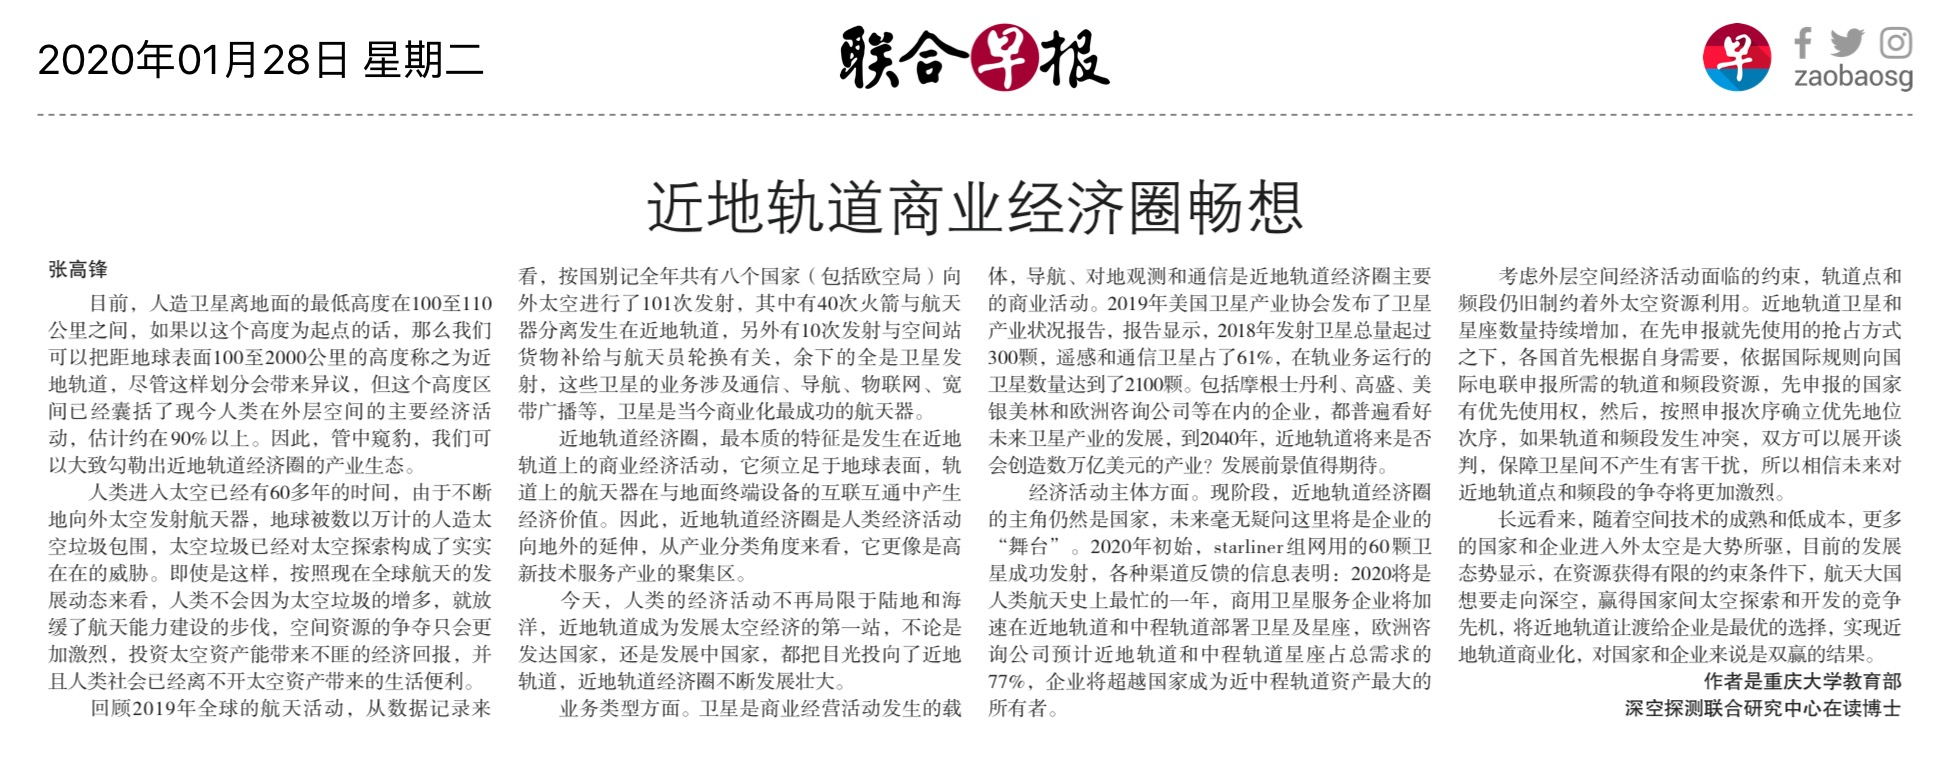heading_test: (640, 170, 1311, 241)
